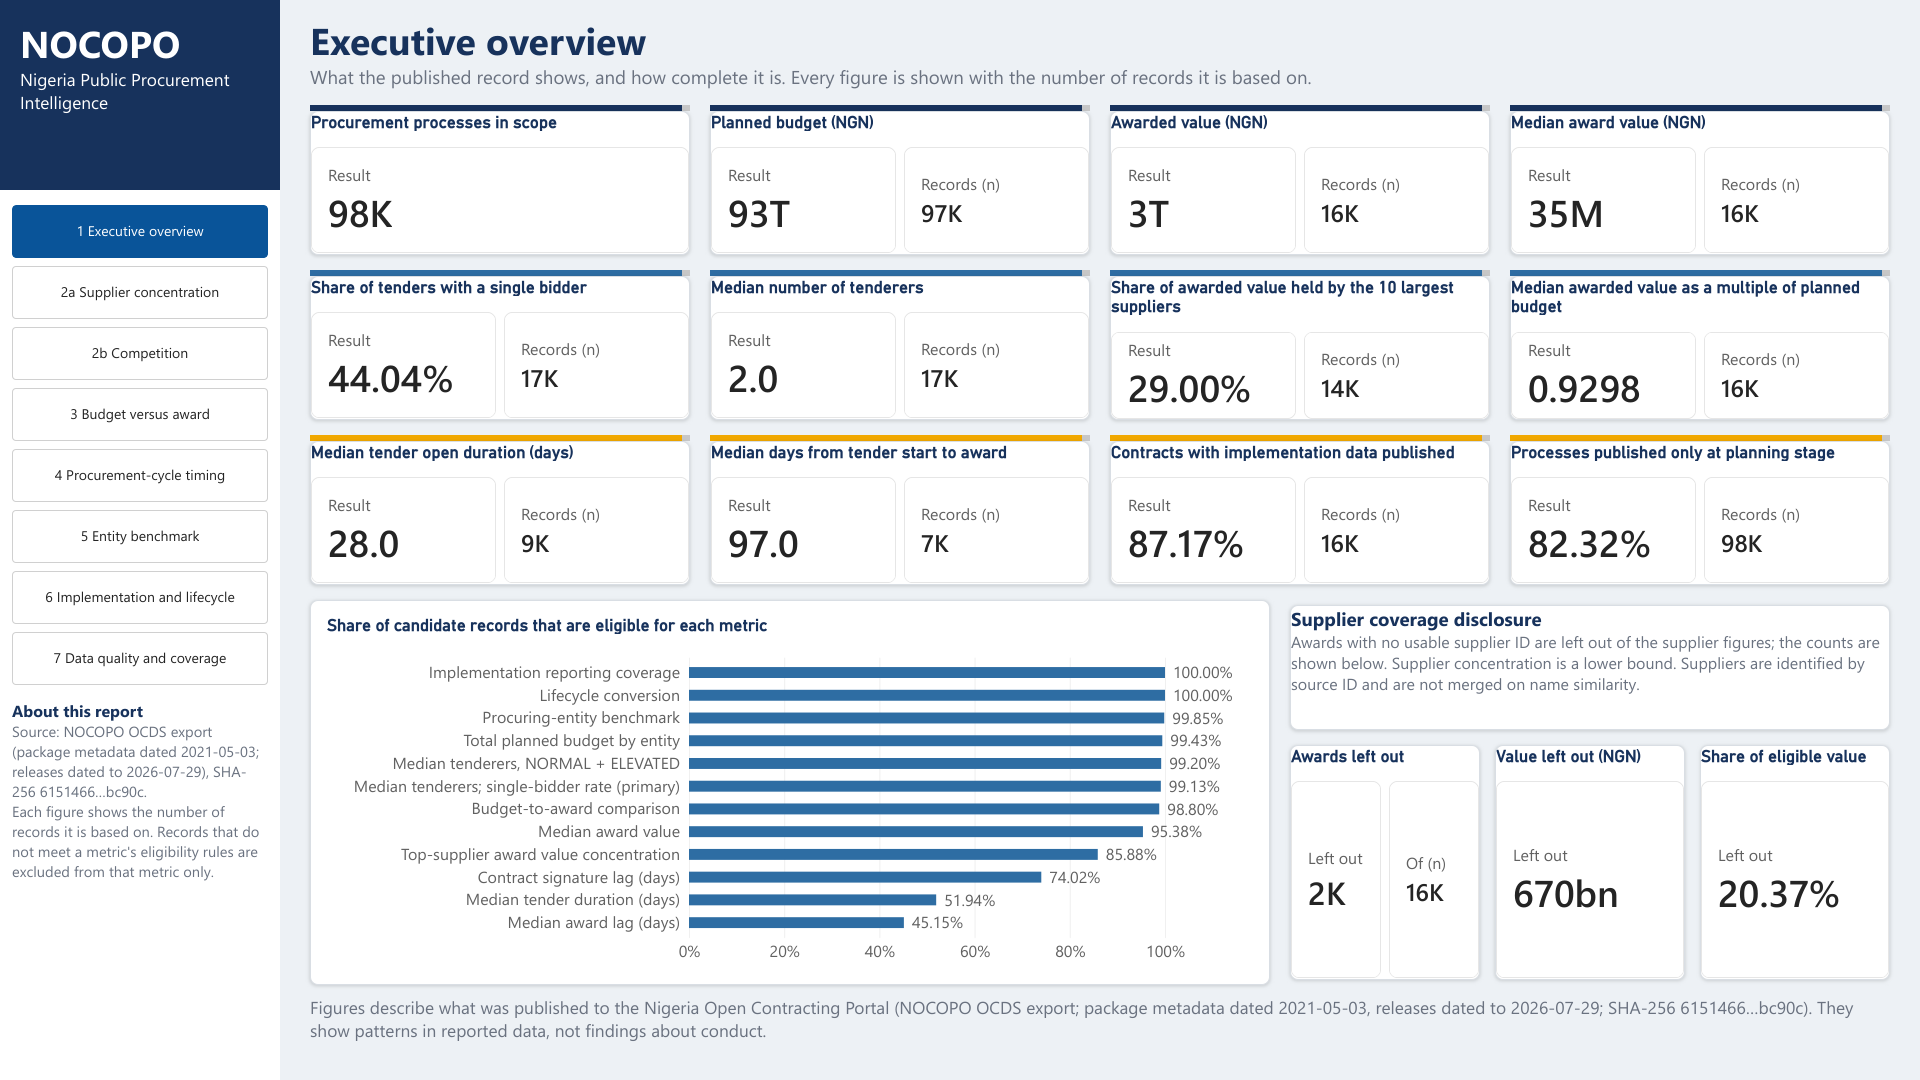

What the dashboard file says about the page in this screenshot:
{"tool":"powerbi","page":{"name":"1 Executive overview","canvas":[1920,1080],"ordinal":0},"visuals":[{"type":"textbox","box":[0,0,280,190],"z":0},{"type":"textbox","box":[0,190,280,890],"z":1},{"type":"textbox","box":[20,18,250,150],"z":2},{"type":"pageNavigator","box":[12,205,256,480],"z":3},{"type":"textbox","box":[12,700,256,360],"z":4},{"type":"textbox","box":[310,15,1580,80],"z":5},{"type":"textbox","box":[310,995,1580,70],"z":6},{"type":"textbox","box":[310,105,380,6],"z":7},{"type":"cardVisual","title":"Procurement processes in scope","fields":{"Data":["_Measures.Processes (n)"]},"box":[310,111,380,144],"z":8},{"type":"textbox","box":[710,105,380,6],"z":9},{"type":"cardVisual","title":"Planned budget (NGN)","fields":{"Data":["_Measures.Planned Budget (NGN)","_Measures.Budget Lines (n)"]},"box":[710,111,380,144],"z":10},{"type":"textbox","box":[1110,105,380,6],"z":11},{"type":"cardVisual","title":"Awarded value (NGN)","fields":{"Data":["_Measures.Award Value (NGN)","_Measures.Eligible Awards (n)"]},"box":[1110,111,380,144],"z":12},{"type":"textbox","box":[1510,105,380,6],"z":13},{"type":"cardVisual","title":"Median award value (NGN)","fields":{"Data":["_Measures.Median Award Value (NGN)","_Measures.Eligible Awards (n)"]},"box":[1510,111,380,144],"z":14},{"type":"textbox","box":[310,270,380,6],"z":15},{"type":"cardVisual","title":"Share of tenders with a single bidder","fields":{"Data":["_Measures.Single-Bidder Rate (primary)","_Measures.Competition n (primary)"]},"box":[310,276,380,144],"z":16},{"type":"textbox","box":[710,270,380,6],"z":17},{"type":"cardVisual","title":"Median number of tenderers","fields":{"Data":["_Measures.Median Tenderers (primary)","_Measures.Competition n (primary)"]},"box":[710,276,380,144],"z":18},{"type":"textbox","box":[1110,270,380,6],"z":19},{"type":"cardVisual","title":"Share of awarded value held by the 10 largest suppliers","fields":{"Data":["_Measures.Top N Supplier Share","_Measures.M-S01 Eligible Awards"]},"box":[1110,276,380,144],"z":20},{"type":"textbox","box":[1510,270,380,6],"z":21},{"type":"cardVisual","title":"Median awarded value as a multiple of planned budget","fields":{"Data":["_Measures.Median Award-to-Budget Ratio","_Measures.Comparable OCIDs"]},"box":[1510,276,380,144],"z":22},{"type":"textbox","box":[310,435,380,6],"z":23},{"type":"cardVisual","title":"Median tender open duration (days)","fields":{"Data":["_Measures.Median Tender Duration (days)","_Measures.Tender Duration n"]},"box":[310,441,380,144],"z":24},{"type":"textbox","box":[710,435,380,6],"z":25},{"type":"cardVisual","title":"Median days from tender start to award","fields":{"Data":["_Measures.Median Award Lag (days)","_Measures.Award Lag n"]},"box":[710,441,380,144],"z":26},{"type":"textbox","box":[1110,435,380,6],"z":27},{"type":"cardVisual","title":"Contracts with implementation data published","fields":{"Data":["_Measures.Implementation Coverage Rate","_Measures.Contracts (n)"]},"box":[1110,441,380,144],"z":28},{"type":"textbox","box":[1510,435,380,6],"z":29},{"type":"cardVisual","title":"Processes published only at planning stage","fields":{"Data":["_Measures.Planning-Only Share","_Measures.Processes (n)"]},"box":[1510,441,380,144],"z":30},{"type":"clusteredBarChart","title":"Share of candidate records that are eligible for each metric","fields":{"Category":["MetricPopulation.metric_name"],"Y":["_Measures.Eligible Share"]},"box":[310,600,960,385],"z":31},{"type":"textbox","box":[1290,605,600,125],"z":32},{"type":"cardVisual","title":"Awards left out","fields":{"Data":["_Measures.M-S01 Excluded Awards","_Measures.Eligible Awards (n)"]},"box":[1290,745,190,235],"z":33},{"type":"cardVisual","title":"Value left out (NGN)","fields":{"Data":["_Measures.M-S01 Excluded Value (NGN)"]},"box":[1495,745,190,235],"z":34},{"type":"cardVisual","title":"Share of eligible value","fields":{"Data":["_Measures.M-S01 Excluded Value Share"]},"box":[1700,745,190,235],"z":35}]}

Visuals, with their boxes in screenshot pixels (x1, y1, x2, y2), scaled from the page's 1920x1080 canvas onto the 1920x1080 screenshot:
textbox: left=0, top=0, right=280, bottom=190
textbox: left=0, top=190, right=280, bottom=1079
textbox: left=20, top=18, right=270, bottom=168
pageNavigator: left=12, top=205, right=268, bottom=685
textbox: left=12, top=700, right=268, bottom=1060
textbox: left=310, top=15, right=1890, bottom=95
textbox: left=310, top=995, right=1890, bottom=1065
textbox: left=310, top=105, right=690, bottom=111
"Procurement processes in scope" cardVisual: left=310, top=111, right=690, bottom=255
textbox: left=710, top=105, right=1090, bottom=111
"Planned budget (NGN)" cardVisual: left=710, top=111, right=1090, bottom=255
textbox: left=1110, top=105, right=1490, bottom=111
"Awarded value (NGN)" cardVisual: left=1110, top=111, right=1490, bottom=255
textbox: left=1510, top=105, right=1890, bottom=111
"Median award value (NGN)" cardVisual: left=1510, top=111, right=1890, bottom=255
textbox: left=310, top=270, right=690, bottom=276
"Share of tenders with a single bidder" cardVisual: left=310, top=276, right=690, bottom=420
textbox: left=710, top=270, right=1090, bottom=276
"Median number of tenderers" cardVisual: left=710, top=276, right=1090, bottom=420
textbox: left=1110, top=270, right=1490, bottom=276
"Share of awarded value held by the 10 largest suppliers" cardVisual: left=1110, top=276, right=1490, bottom=420
textbox: left=1510, top=270, right=1890, bottom=276
"Median awarded value as a multiple of planned budget" cardVisual: left=1510, top=276, right=1890, bottom=420
textbox: left=310, top=435, right=690, bottom=441
"Median tender open duration (days)" cardVisual: left=310, top=441, right=690, bottom=585
textbox: left=710, top=435, right=1090, bottom=441
"Median days from tender start to award" cardVisual: left=710, top=441, right=1090, bottom=585
textbox: left=1110, top=435, right=1490, bottom=441
"Contracts with implementation data published" cardVisual: left=1110, top=441, right=1490, bottom=585
textbox: left=1510, top=435, right=1890, bottom=441
"Processes published only at planning stage" cardVisual: left=1510, top=441, right=1890, bottom=585
"Share of candidate records that are eligible for each metric" clusteredBarChart: left=310, top=600, right=1270, bottom=985
textbox: left=1290, top=605, right=1890, bottom=730
"Awards left out" cardVisual: left=1290, top=745, right=1480, bottom=980
"Value left out (NGN)" cardVisual: left=1495, top=745, right=1685, bottom=980
"Share of eligible value" cardVisual: left=1700, top=745, right=1890, bottom=980
